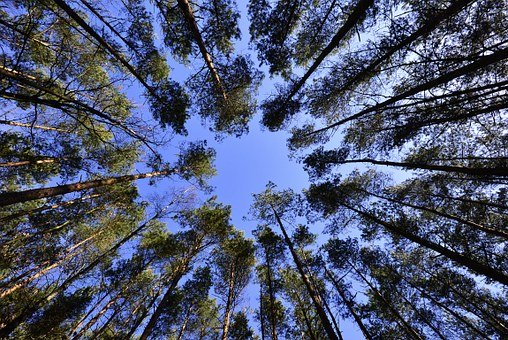forest: (2, 4, 501, 340)
tree: (30, 7, 240, 130), (13, 138, 223, 261), (242, 5, 452, 128)
